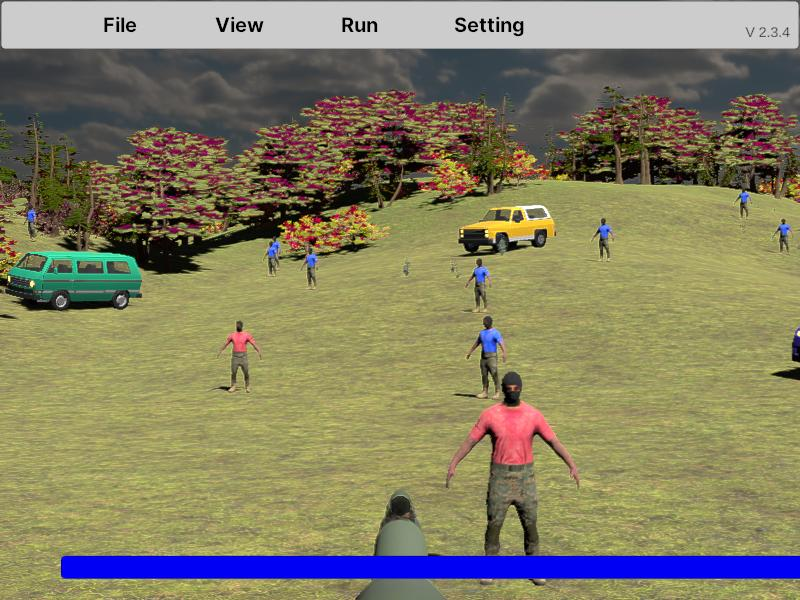Human: (445, 369, 580, 586), (467, 315, 506, 400), (219, 320, 261, 392), (467, 258, 491, 313), (592, 217, 614, 263), (301, 246, 319, 291)
car: (6, 250, 141, 311), (458, 205, 556, 252), (791, 317, 800, 381)
